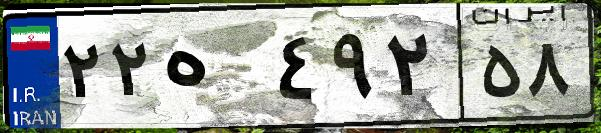2: (385, 28, 445, 110), (57, 26, 110, 100), (110, 28, 158, 98)
4: (270, 28, 330, 110)
5: (475, 38, 525, 113)
8: (525, 38, 570, 115)
9: (330, 28, 385, 110)
ه: (158, 20, 270, 120)
